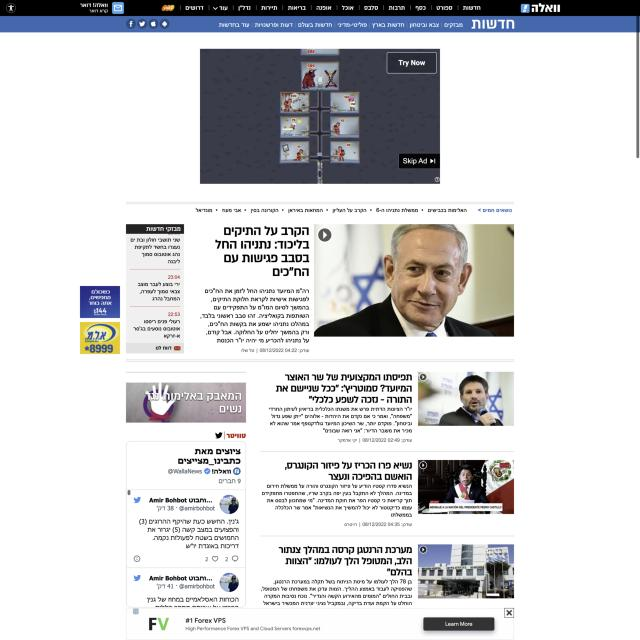logo: (518, 2, 562, 14)
navigation: (184, 3, 483, 12), (216, 20, 465, 30), (195, 206, 470, 215)
video: (314, 223, 514, 337), (418, 459, 514, 515), (418, 544, 515, 599), (418, 371, 513, 426)
